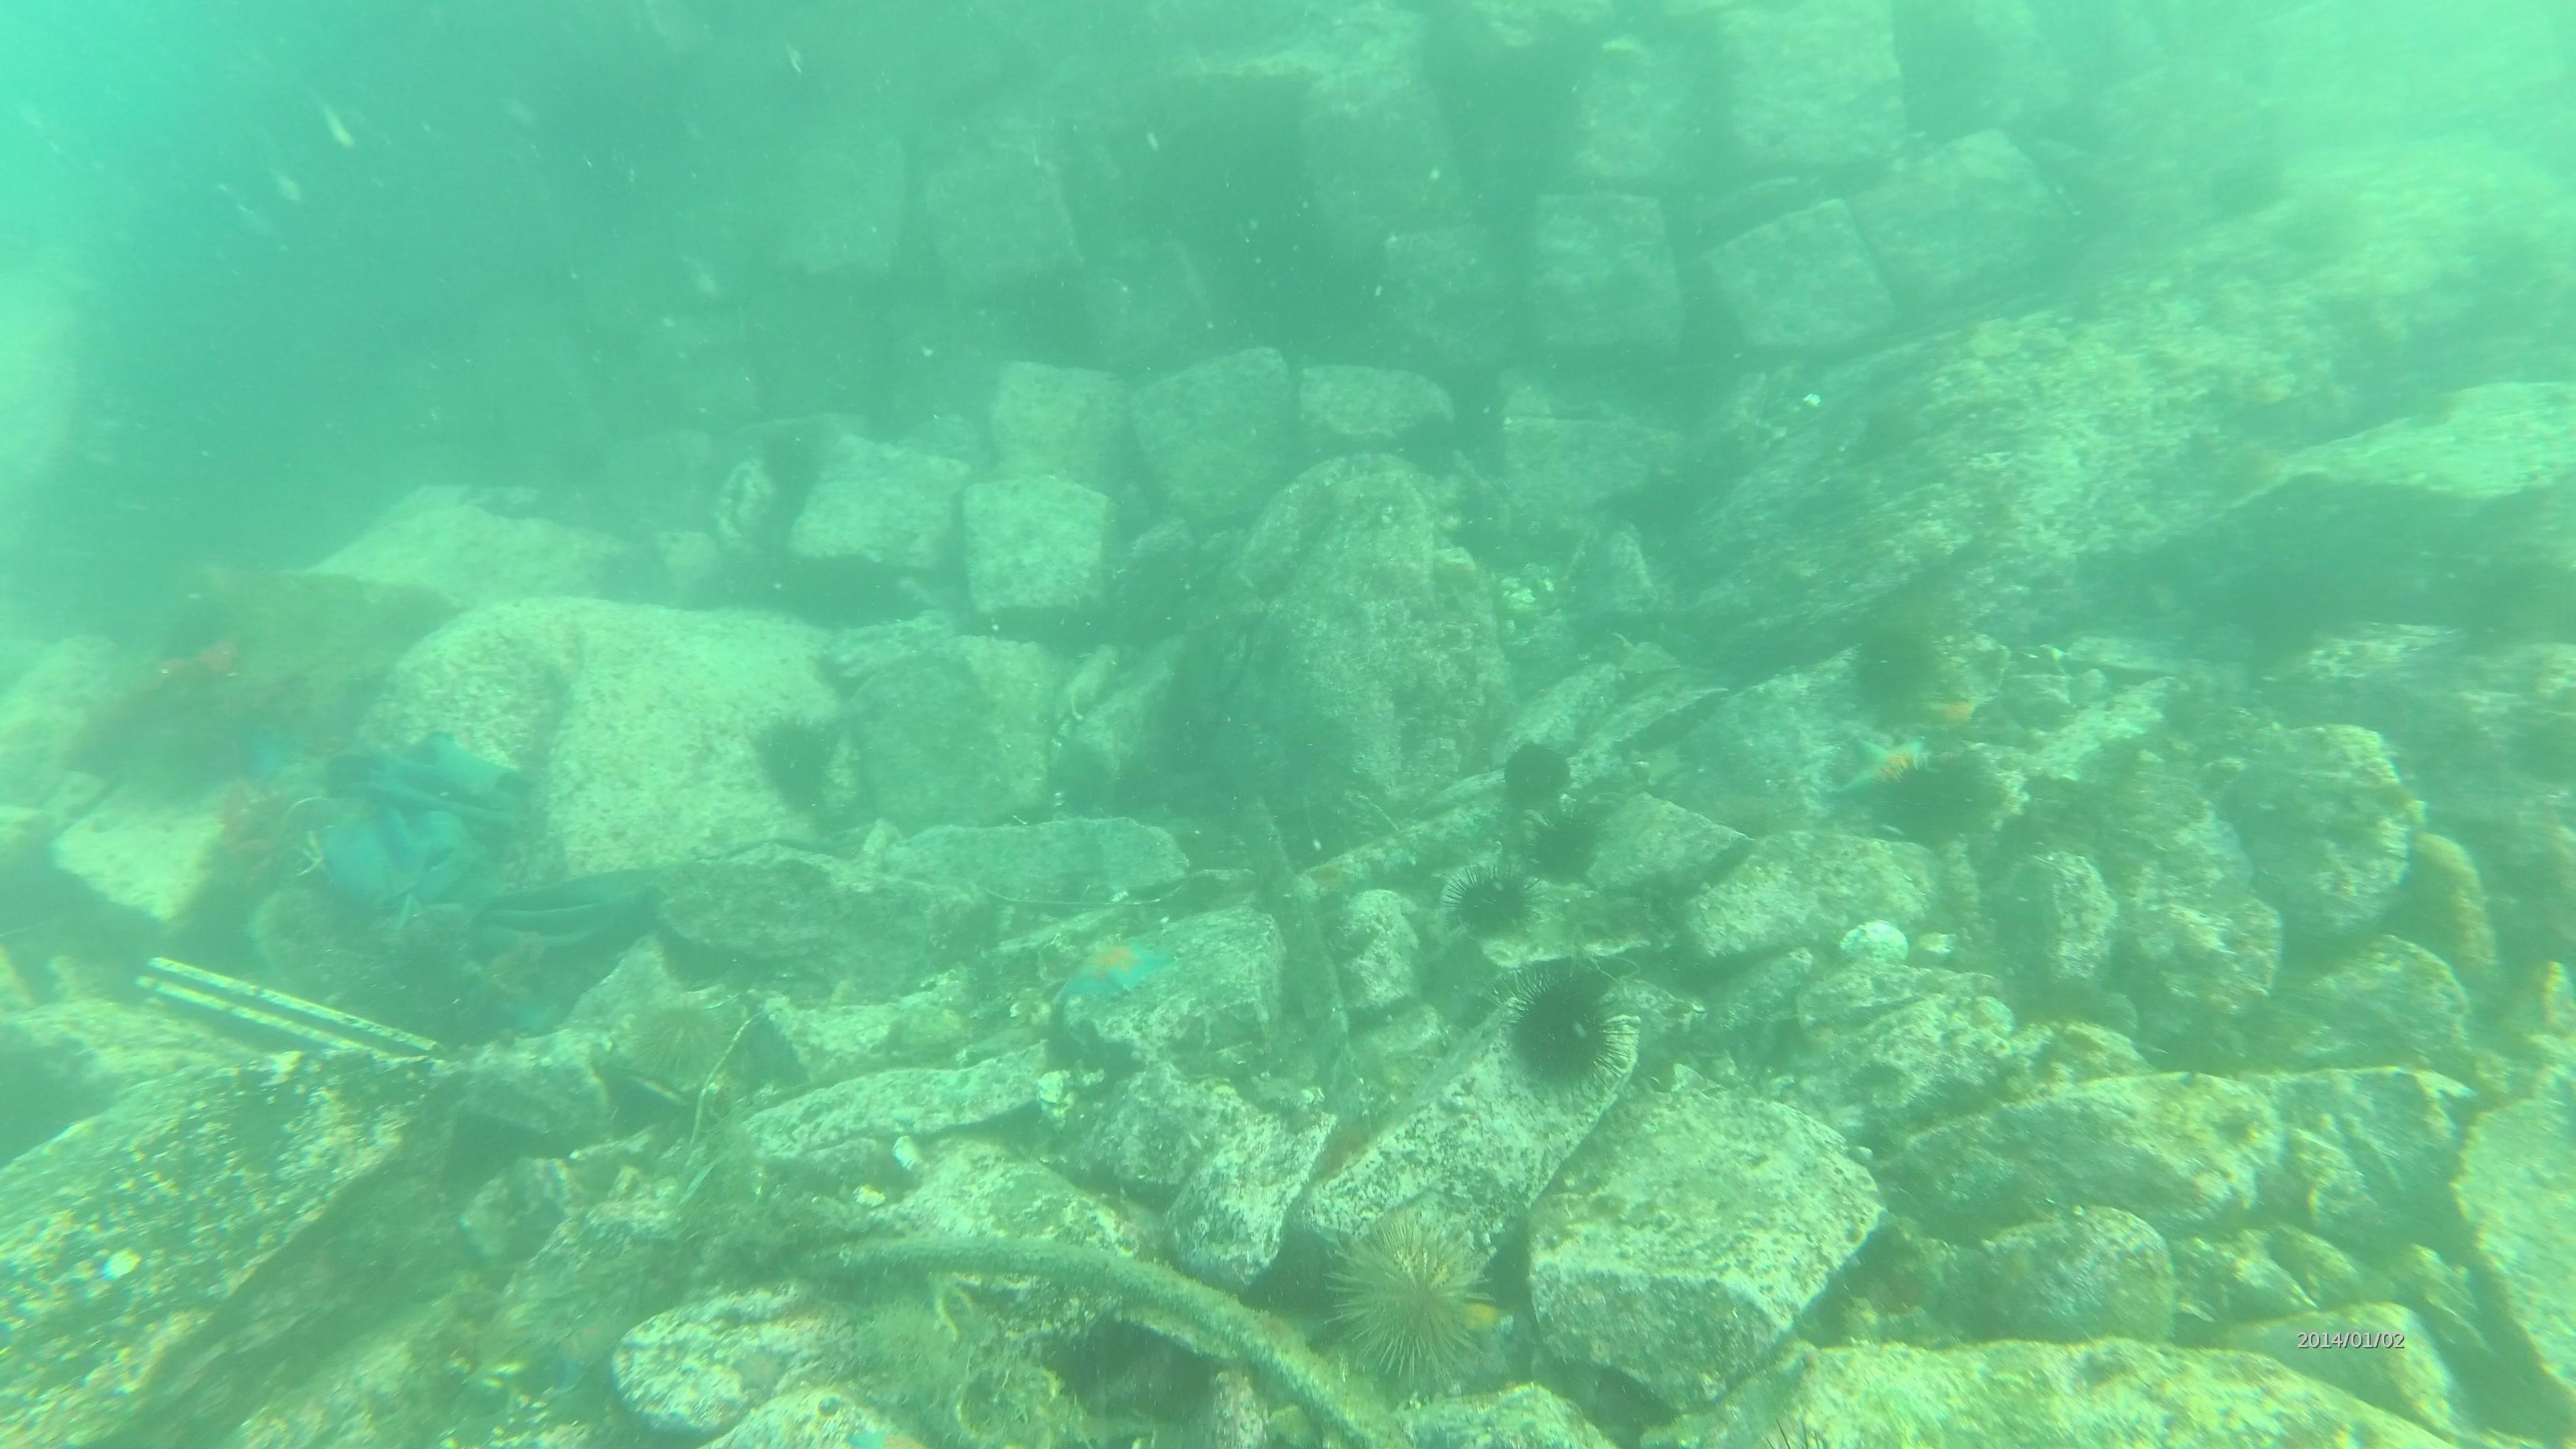echinus: (1316, 1212, 1507, 1396), (1500, 966, 1626, 1097), (621, 982, 741, 1092), (1875, 747, 1999, 851), (1840, 614, 1946, 722), (745, 708, 847, 817), (1444, 860, 1541, 945), (2199, 147, 2289, 228), (1522, 807, 1605, 885)
starfish: (1047, 922, 1180, 1014), (1831, 727, 1936, 810), (1916, 683, 1992, 747)
